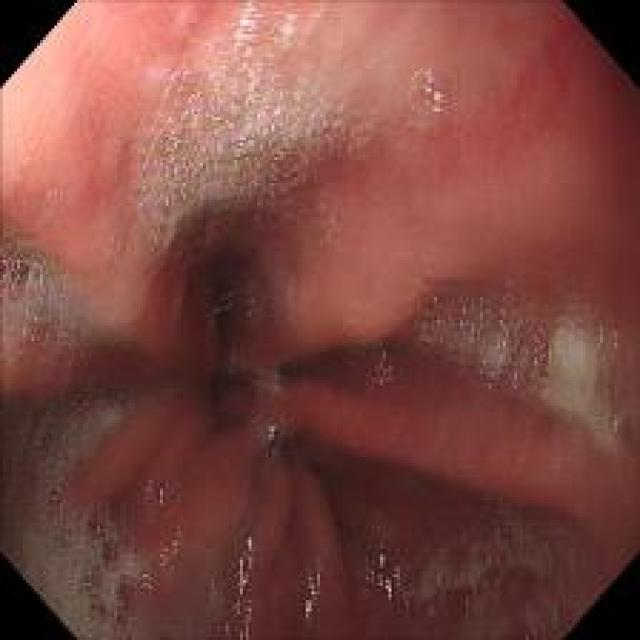blur: (59, 115, 591, 608)
bubbles: (120, 0, 361, 264), (414, 276, 626, 445), (16, 479, 128, 634), (1, 375, 156, 468), (422, 540, 560, 629), (2, 236, 95, 354), (406, 55, 459, 122), (72, 560, 126, 625), (35, 482, 71, 522), (82, 510, 112, 540), (136, 569, 156, 594)
color misalignment: (151, 10, 350, 255), (424, 285, 552, 396), (4, 240, 76, 344), (229, 520, 258, 638), (361, 539, 402, 598), (568, 310, 622, 348), (209, 288, 260, 321), (298, 558, 322, 622), (160, 526, 188, 568), (372, 342, 394, 395), (420, 69, 445, 115), (132, 552, 158, 595), (259, 411, 286, 451), (602, 412, 626, 441), (225, 349, 240, 376), (92, 515, 101, 535)
